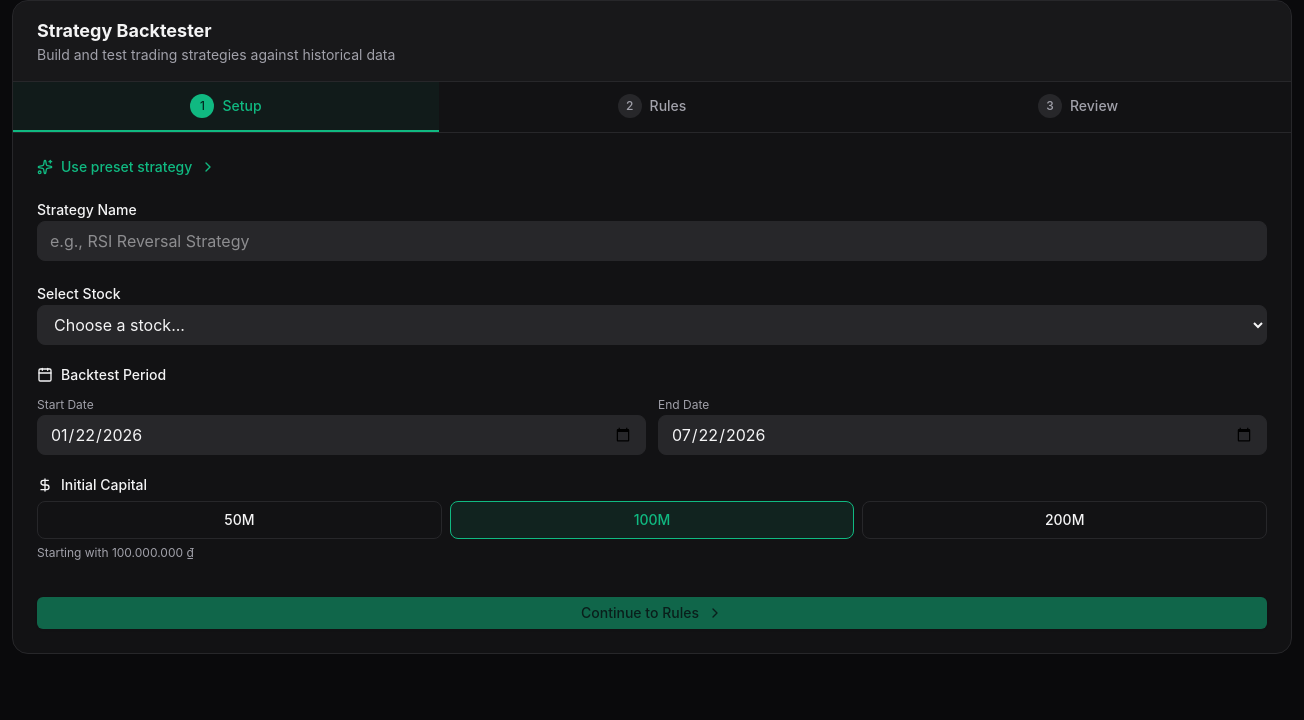
it: BacktestForm › enables Continue button when required fields are filled
// Fill strategy name
In the field with placeholder "e.g., RSI Reversal Strategy": x=652, y=241 x1=37 y1=221 x2=1267 y2=261, type "My Strategy"
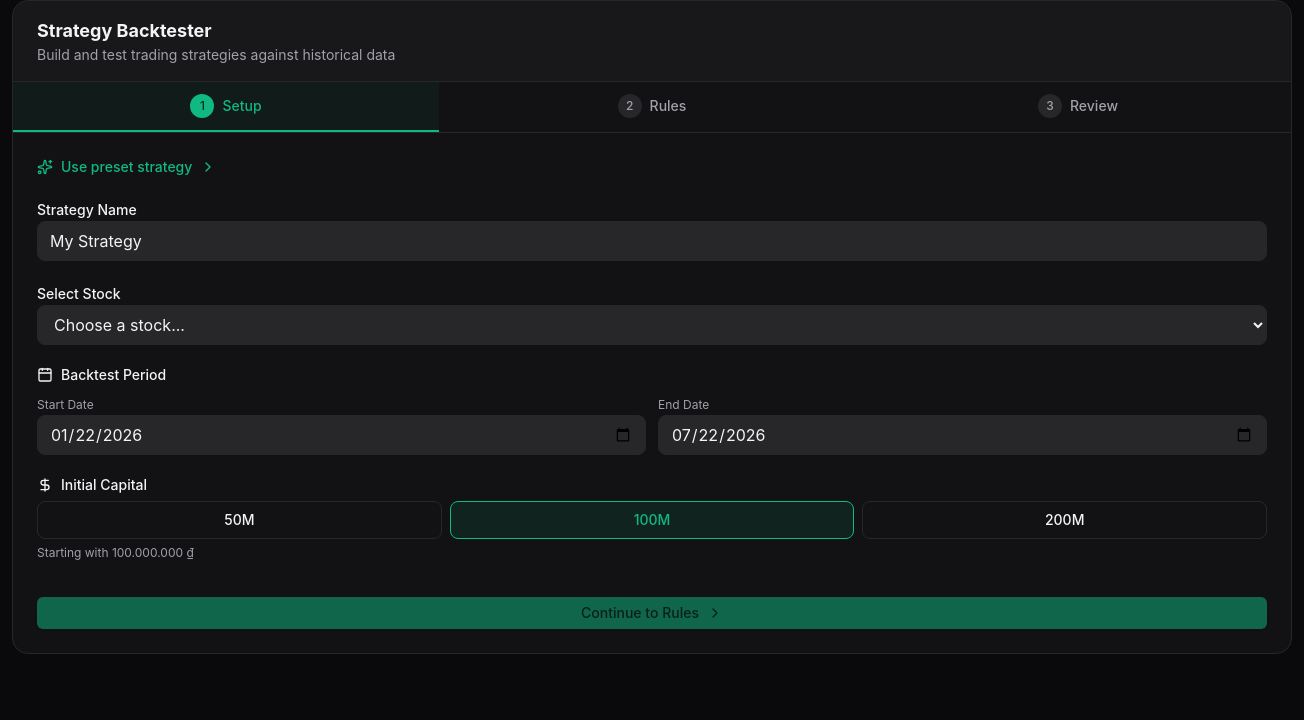
// Select ticker
Select "FPT - FPT Corporation" in the dropdown: x=652, y=325 x1=37 y1=305 x2=1267 y2=345
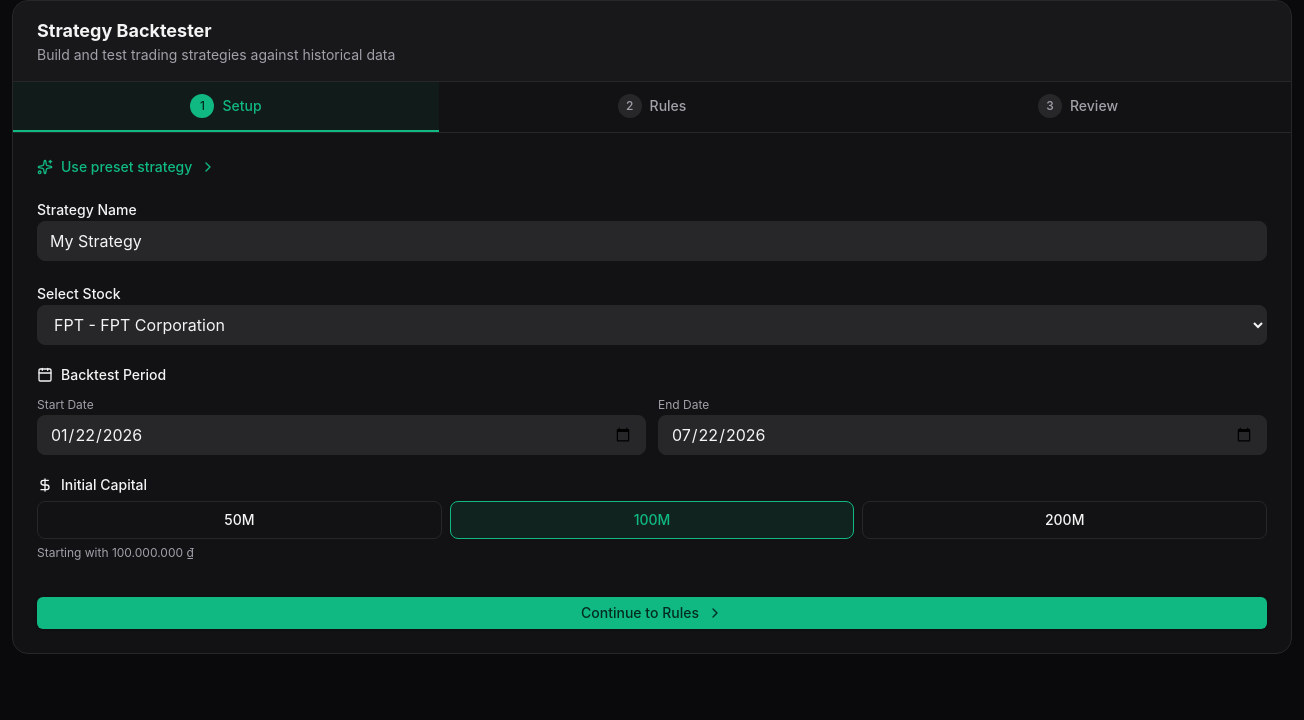
Now the button "Continue to Rules" is enabled, box x1=37 y1=597 x2=1267 y2=629
